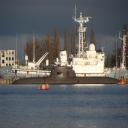submarine: (8, 58, 125, 85)
